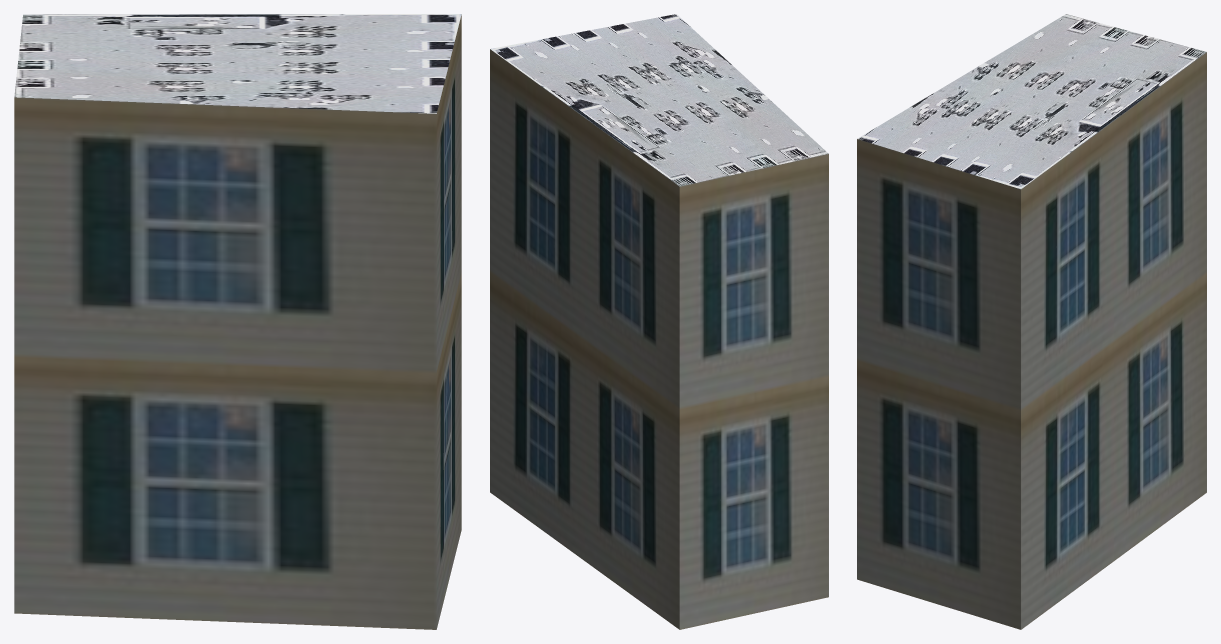
File: ResTex__3471.fbx
The picture shows the model from 3 angles, left to right: view 1: azimuth 30°, elevation 25°; view 2: azimuth 150°, elevation 25°; view 3: azimuth 270°, elevation 25°; orthographic projection. The views are drawn at different scales.
Visible parts, largest first — view 1: CityEngineMaterial_7_m, CityEngineMaterial_4_m; view 2: CityEngineMaterial_7_m, CityEngineMaterial_4_m; view 3: CityEngineMaterial_7_m, CityEngineMaterial_4_m.
Boxes of the visible parts, box(x1,y1,x2,y2) form: CityEngineMaterial_7_m: box(14, 15, 461, 629); CityEngineMaterial_4_m: box(14, 14, 461, 113); CityEngineMaterial_7_m: box(490, 49, 828, 629); CityEngineMaterial_4_m: box(490, 14, 828, 186); CityEngineMaterial_7_m: box(857, 52, 1206, 629); CityEngineMaterial_4_m: box(857, 14, 1206, 189).
Bounding box in the file's own units: 5.12 × 6 × 4.32.
2 materials, 2 textured.
